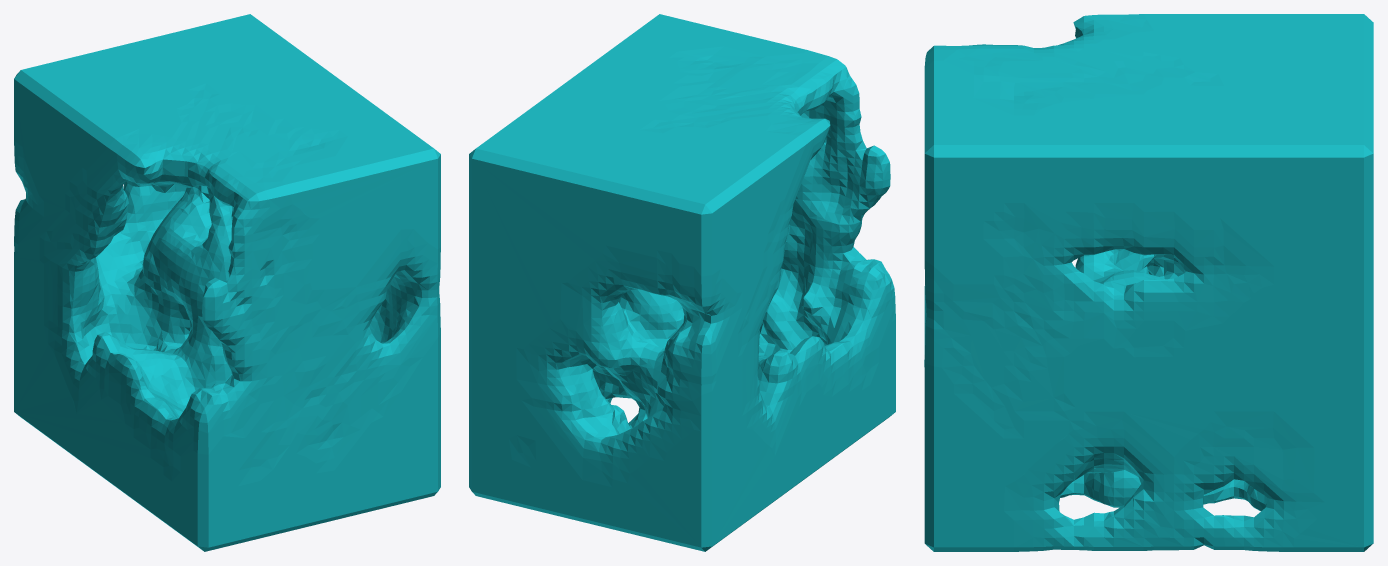
3 renders of one model, left to right at view 1: azimuth 30°, elevation 25°; view 2: azimuth 150°, elevation 25°; view 3: azimuth 270°, elevation 25°, orthographic. The views are drawn at different scales.
Visible parts, largest first — view 1: Liquid_Domain; view 2: Liquid_Domain; view 3: Liquid_Domain.
Boxes of the visible parts, left/top/right/bottom form: Liquid_Domain: left=14, top=14, right=440, bottom=551; Liquid_Domain: left=469, top=14, right=895, bottom=551; Liquid_Domain: left=924, top=14, right=1373, bottom=551.
Size of the model in its own units: 79.09 by 108 by 108.
